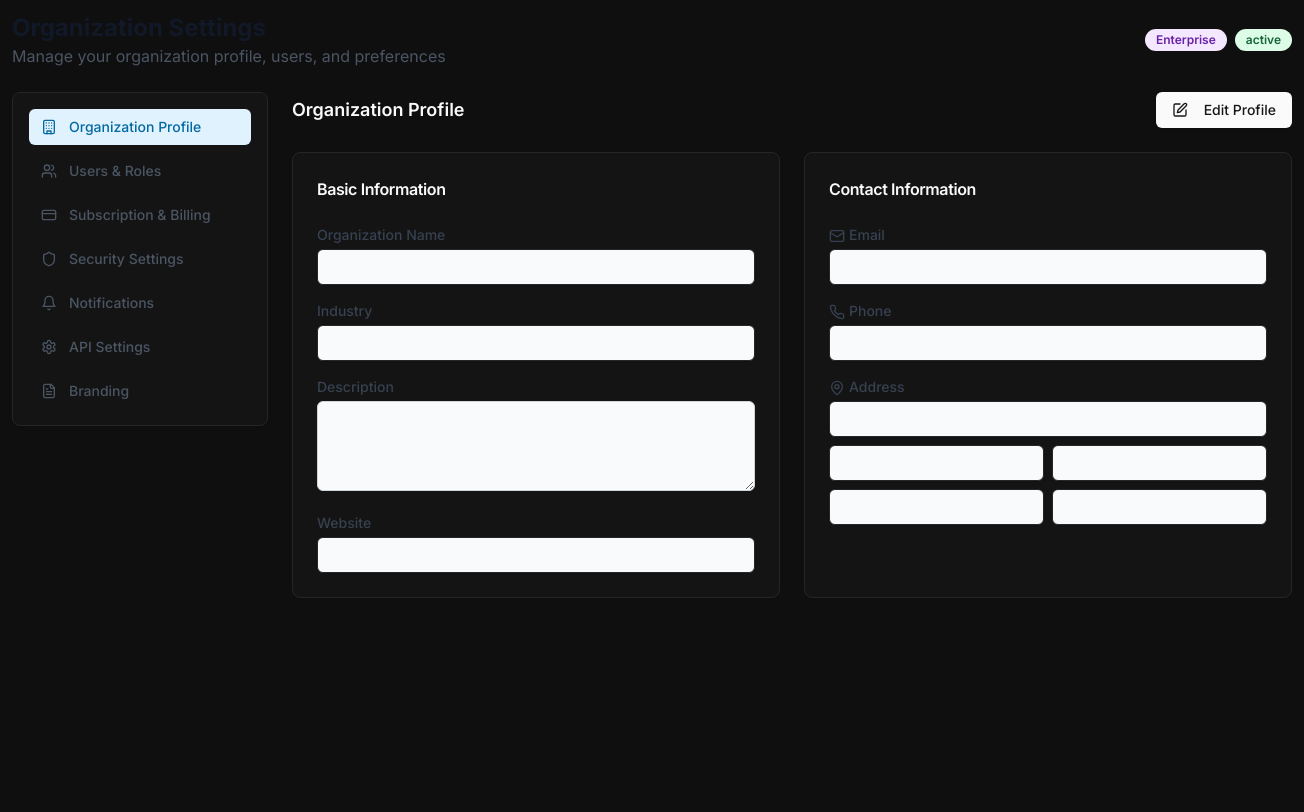
it: OrganizationSettingsPage › Organization Profile Editing › should show loading state during save
Note: Enter edit mode
Click the button "Edit Profile": (1224, 110) [1156,92,1292,128]
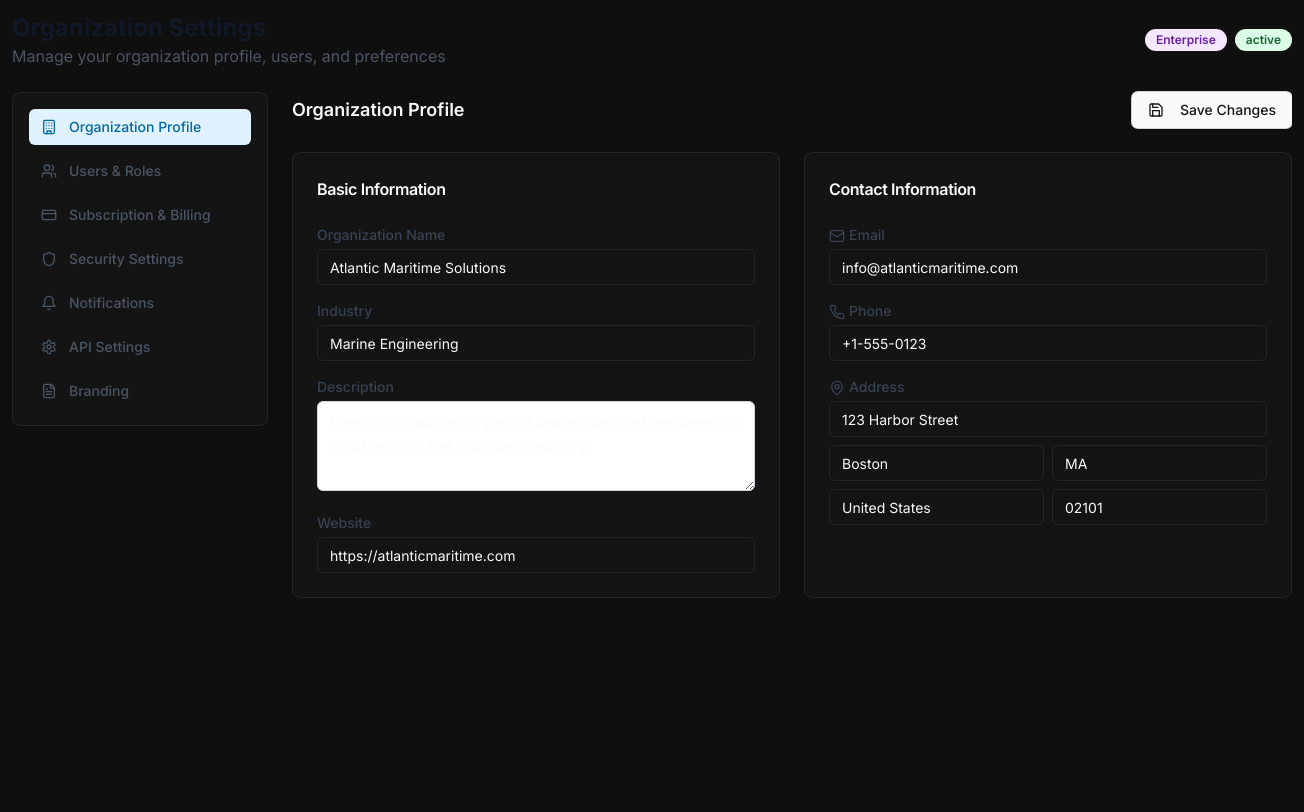
Note: Click save button
Click the button "Save Changes": (1212, 110) [1132,92,1292,128]
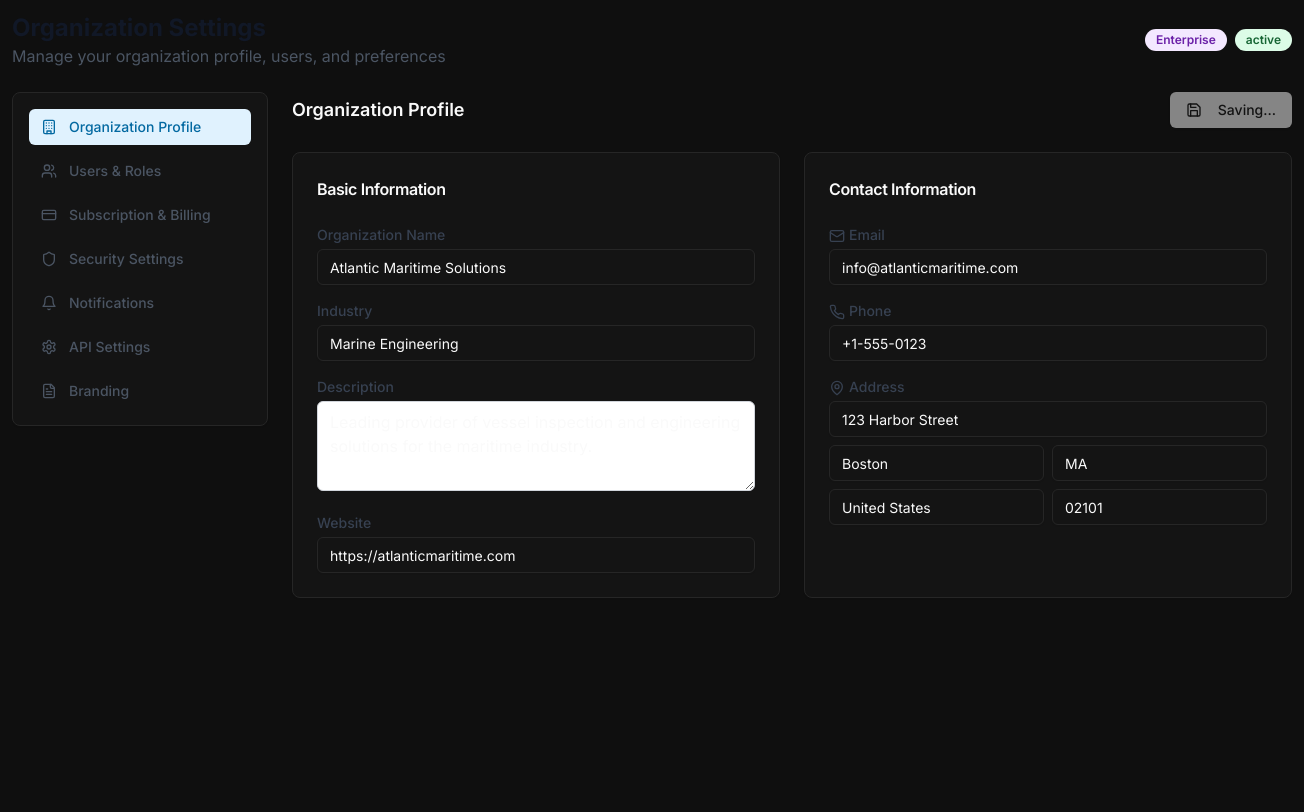
Result: the button "Saving..." is shown at [1170,92,1292,128]
